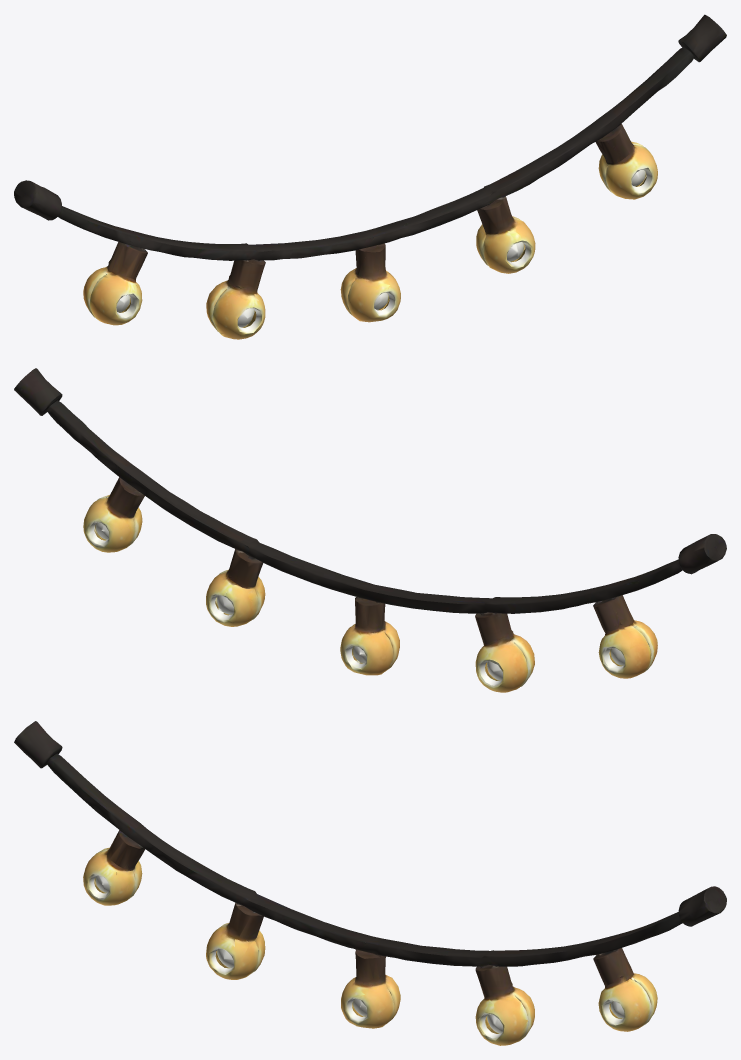
File: decor_garland_lights_idle.glb
3 views of the same model, one above another, from view 1: azimuth 30°, elevation 25°; view 2: azimuth 150°, elevation 25°; view 3: azimuth 330°, elevation 25° (orthographic).
Visible parts, largest first — view 1: tripo_node_e56afe5c-dece-4893-a574-4402acaec6c2; view 2: tripo_node_e56afe5c-dece-4893-a574-4402acaec6c2; view 3: tripo_node_e56afe5c-dece-4893-a574-4402acaec6c2.
Part boxes in pixels (bbox=[...]): tripo_node_e56afe5c-dece-4893-a574-4402acaec6c2: bbox=[14, 14, 726, 339]; tripo_node_e56afe5c-dece-4893-a574-4402acaec6c2: bbox=[14, 368, 726, 692]; tripo_node_e56afe5c-dece-4893-a574-4402acaec6c2: bbox=[14, 721, 726, 1045].
Bounding box in the file's own units: 1.5 × 0.4449 × 0.1069.
Materials: 1 (1 with a texture image).
